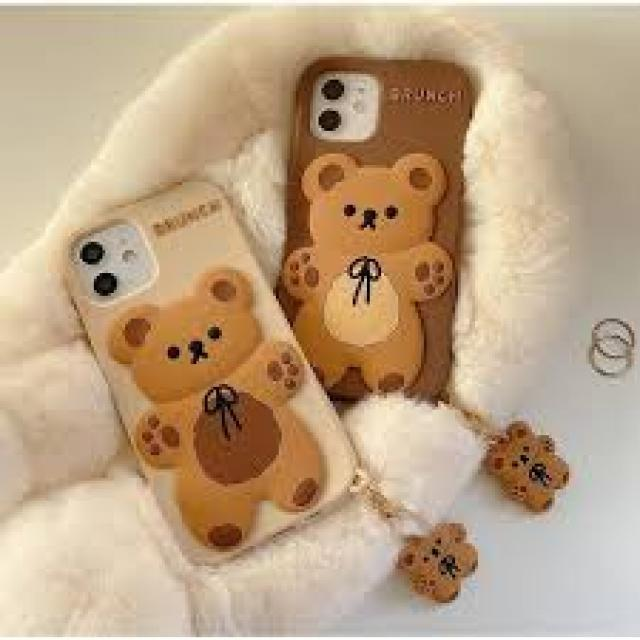phone: (60, 183, 358, 562), (295, 51, 460, 397)
